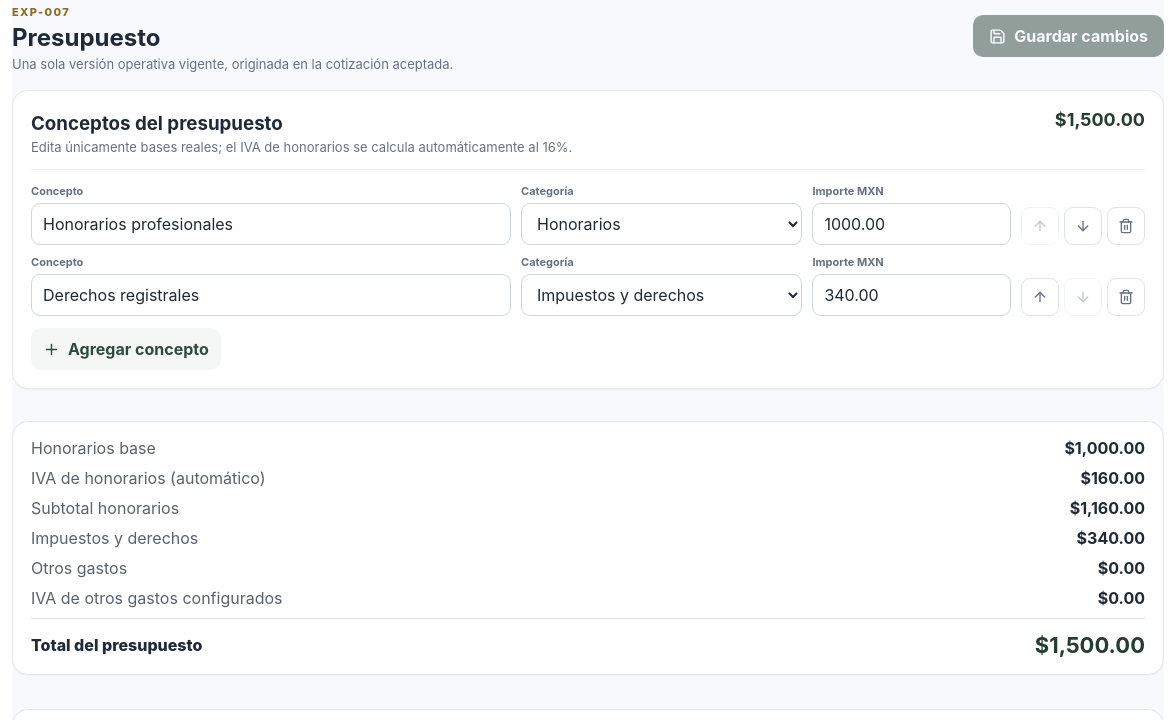
Test: EXP-007 · Presupuesto operativo UI › permite reordenar la única lista de conceptos sin crear versiones editables
expect the 1st field showing "Honorarios profesionales" is shown: met, box [31,203,511,245]
Click the button named "Bajar Honorarios profesionales": (1083, 226) [1064,207,1102,245]
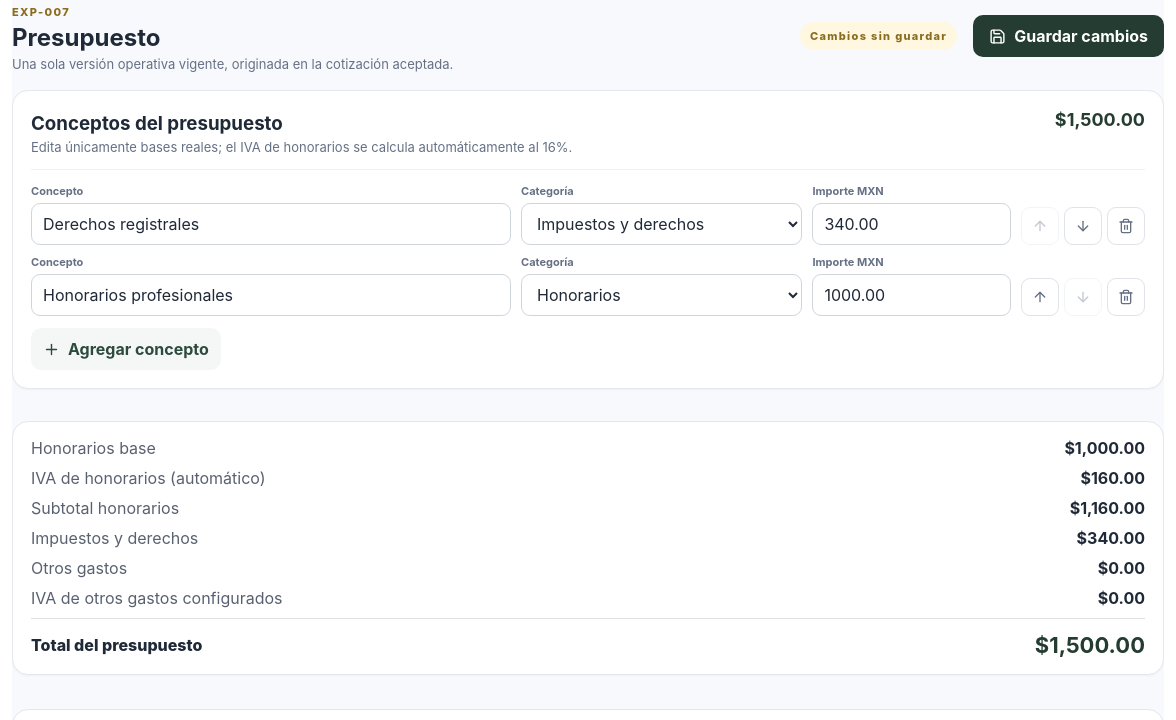
expect the text "Cambios sin guardar" is shown: met, box [800,22,957,50]
